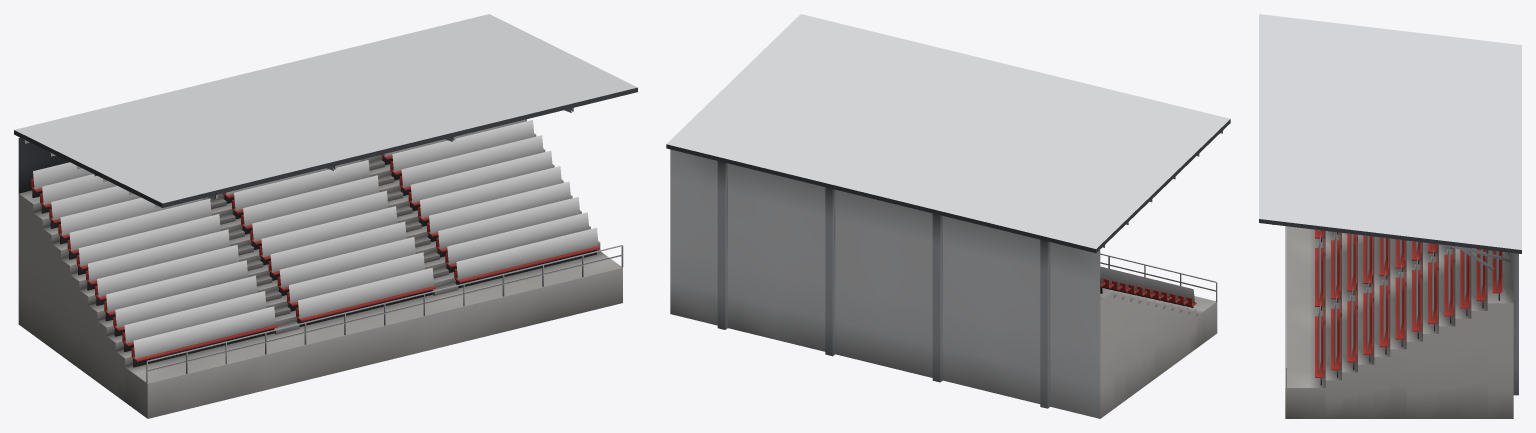
Rendered from grandstand.glb.
3 renders of one model, left to right at view 1: azimuth 30°, elevation 25°; view 2: azimuth 150°, elevation 25°; view 3: azimuth 270°, elevation 25°, orthographic. The views are drawn at different scales.
Parts seen in each view (by area): view 1: grandstand; view 2: grandstand; view 3: grandstand.
Part boxes in pixels (x1=…): grandstand: x1=14, y1=14, x2=637, y2=418; grandstand: x1=666, y1=14, x2=1230, y2=418; grandstand: x1=1259, y1=14, x2=1521, y2=418.
Bounding box in the file's own units: 24.05 × 10.92 × 13.
